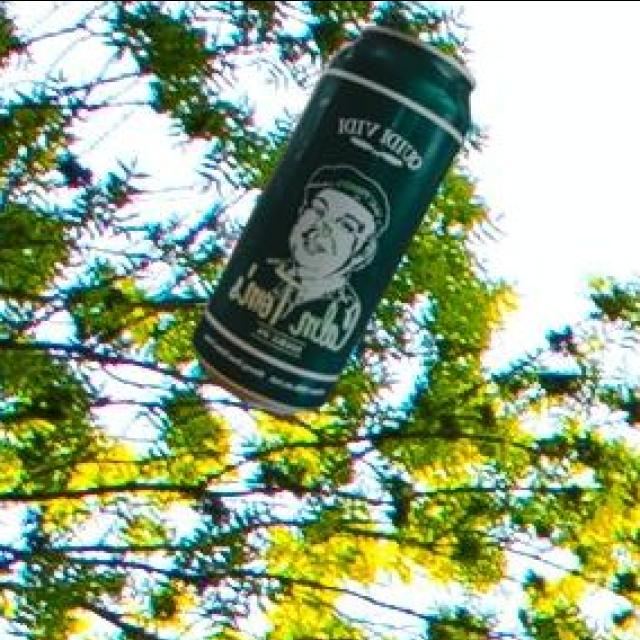logam: (190, 21, 472, 409)
